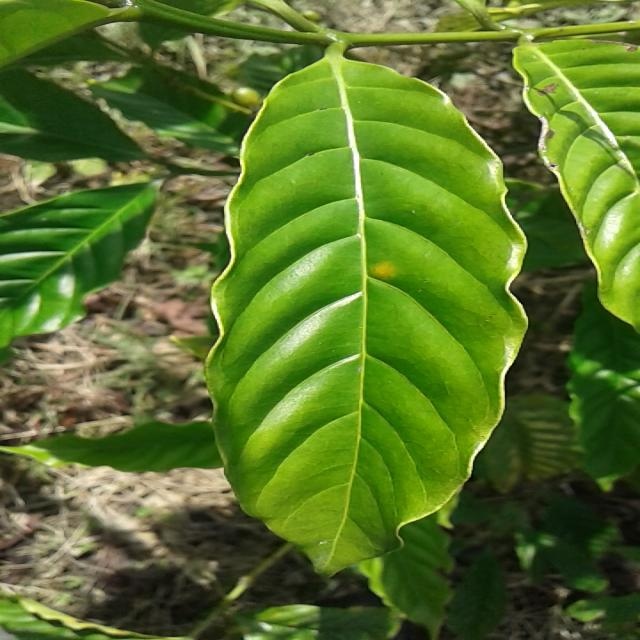Enfermedad-Roya: (203, 44, 528, 578)
